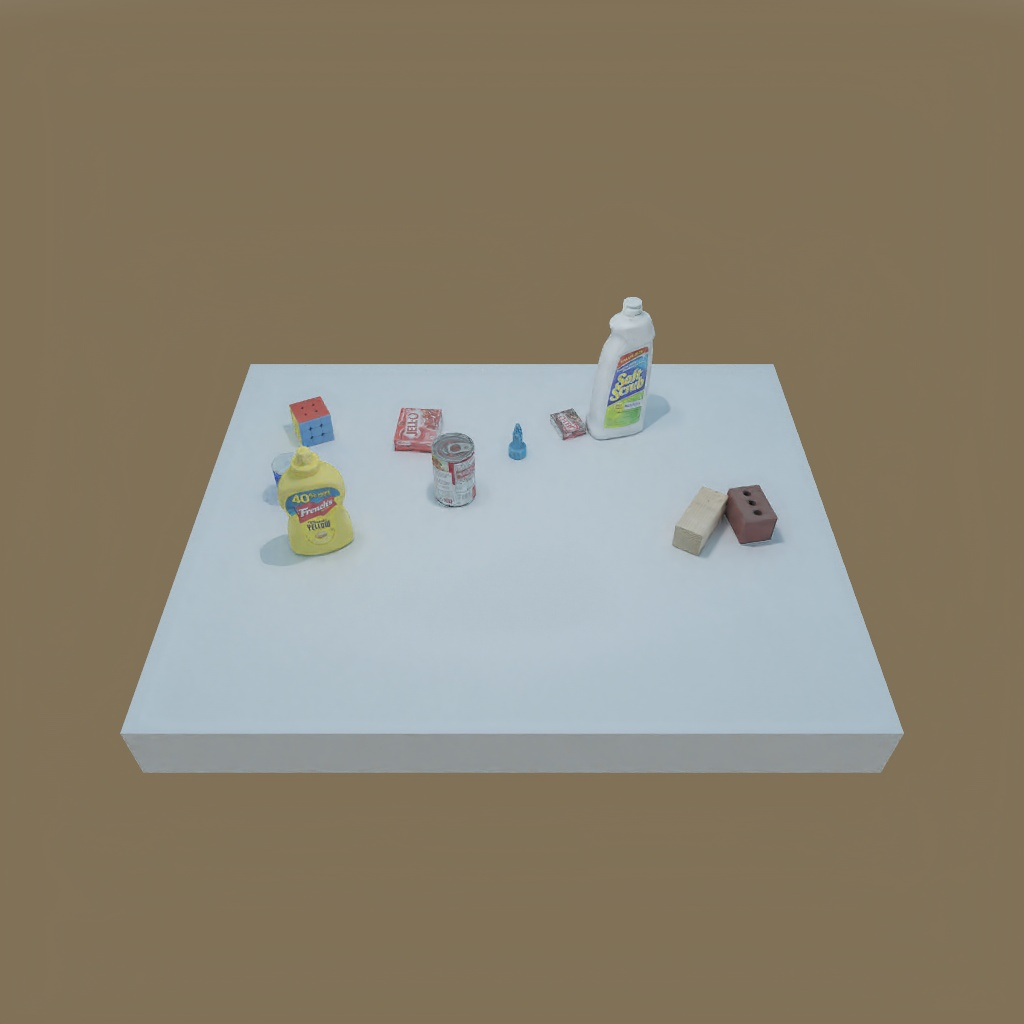gelatin_box: (391, 403, 442, 452)
master_chef_can: (265, 449, 301, 485)
mustard_bottle: (276, 452, 356, 557)
pudding_box: (549, 407, 588, 440)
rubiks_cube: (287, 401, 341, 443)
tomato_soup_can: (428, 431, 478, 513)
wood_block: (677, 485, 729, 557)
